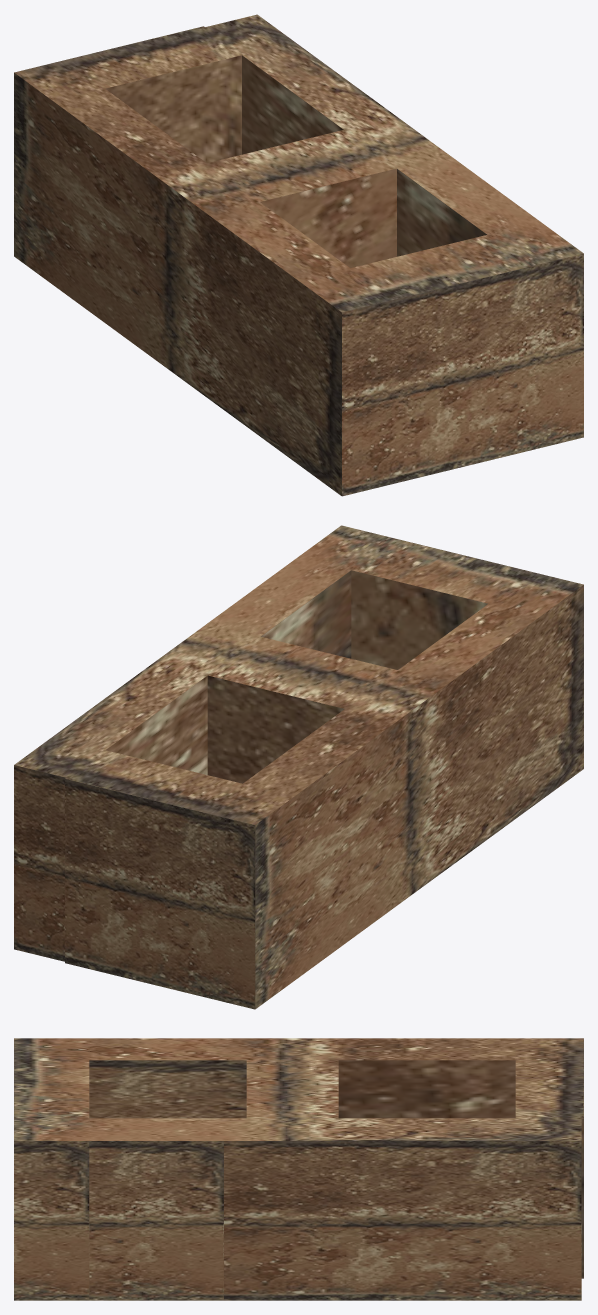
Rendered from Ladrillo5.fbx.
3 renders of one model, top to bottom at view 1: azimuth 30°, elevation 25°; view 2: azimuth 150°, elevation 25°; view 3: azimuth 270°, elevation 25°, orthographic. The views are drawn at different scales.
Parts seen in each view (by area): view 1: Ladrillo; view 2: Ladrillo; view 3: Ladrillo.
Part boxes in pixels (bbox=[...]): Ladrillo: bbox=[14, 14, 583, 496]; Ladrillo: bbox=[14, 525, 583, 1009]; Ladrillo: bbox=[14, 1038, 583, 1300].
Bounding box in the file's own units: 116 × 84.49 × 273.
